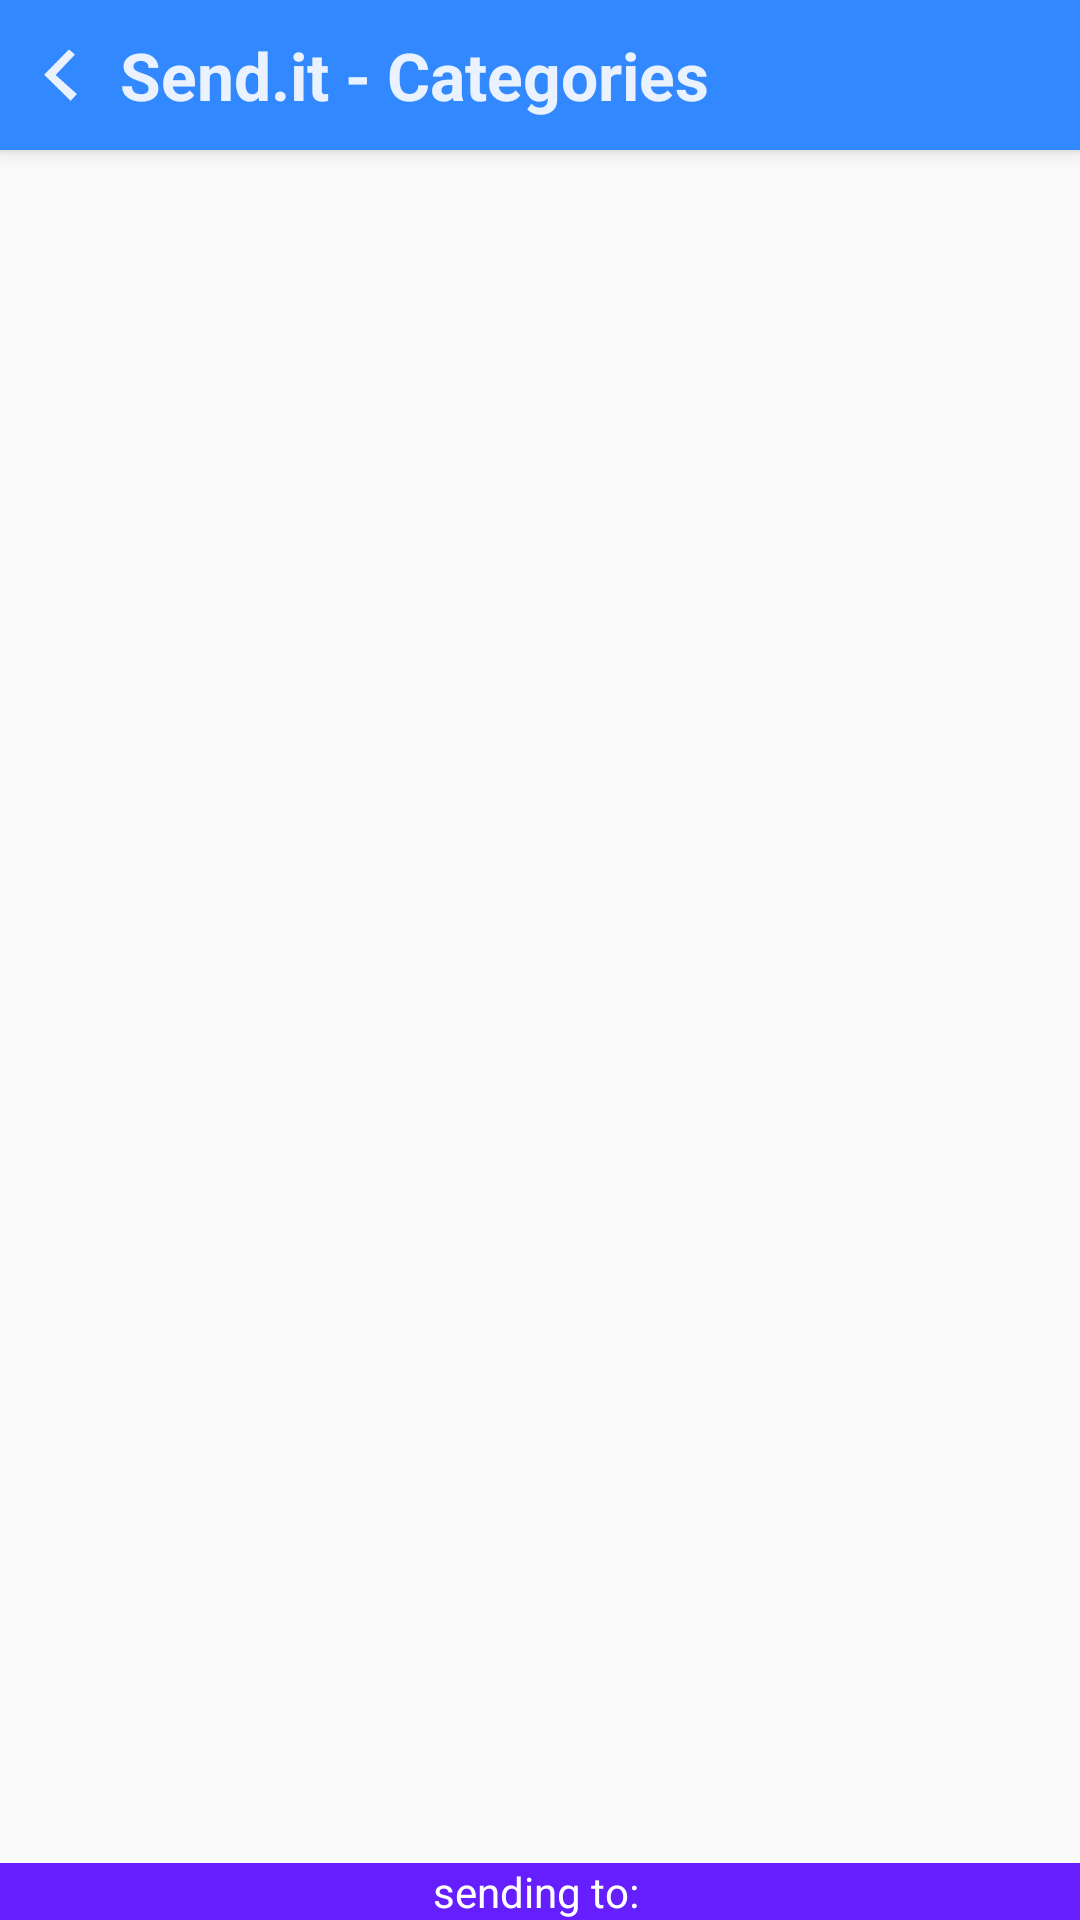

Where to tap for icons on this 1080px×1920px app screen, as point (x, y):
back: point (60, 75)
